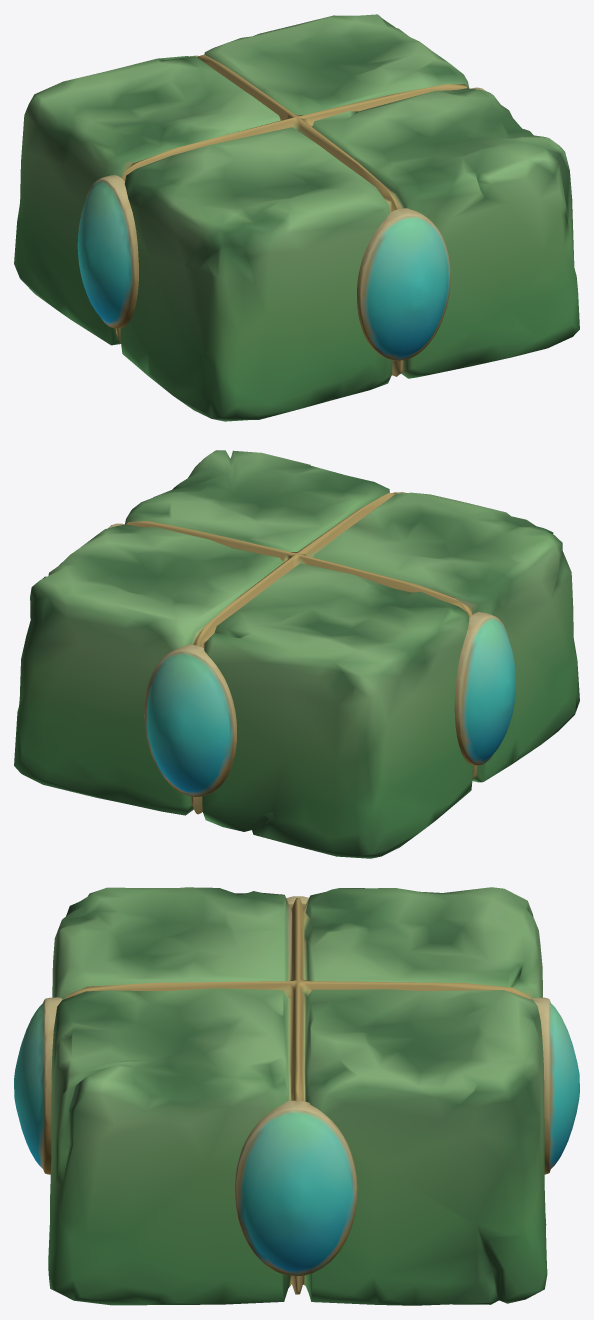
Rendered from SM_pressTile_green.fbx.
3 renders of one model, top to bottom at view 1: azimuth 30°, elevation 25°; view 2: azimuth 150°, elevation 25°; view 3: azimuth 270°, elevation 25°, orthographic. The views are drawn at different scales.
Visible parts, largest first — view 1: pressureTile_green; view 2: pressureTile_green; view 3: pressureTile_green.
Part boxes in pixels (<box>): pressureTile_green: <box>14,14,579,421</box>; pressureTile_green: <box>14,450,579,858</box>; pressureTile_green: <box>14,887,579,1305</box>.
Bounding box in the file's own units: 109 × 47.85 × 109.
